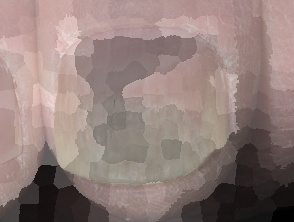Nail_psoriasis: (28, 0, 261, 222), (0, 26, 37, 203)
